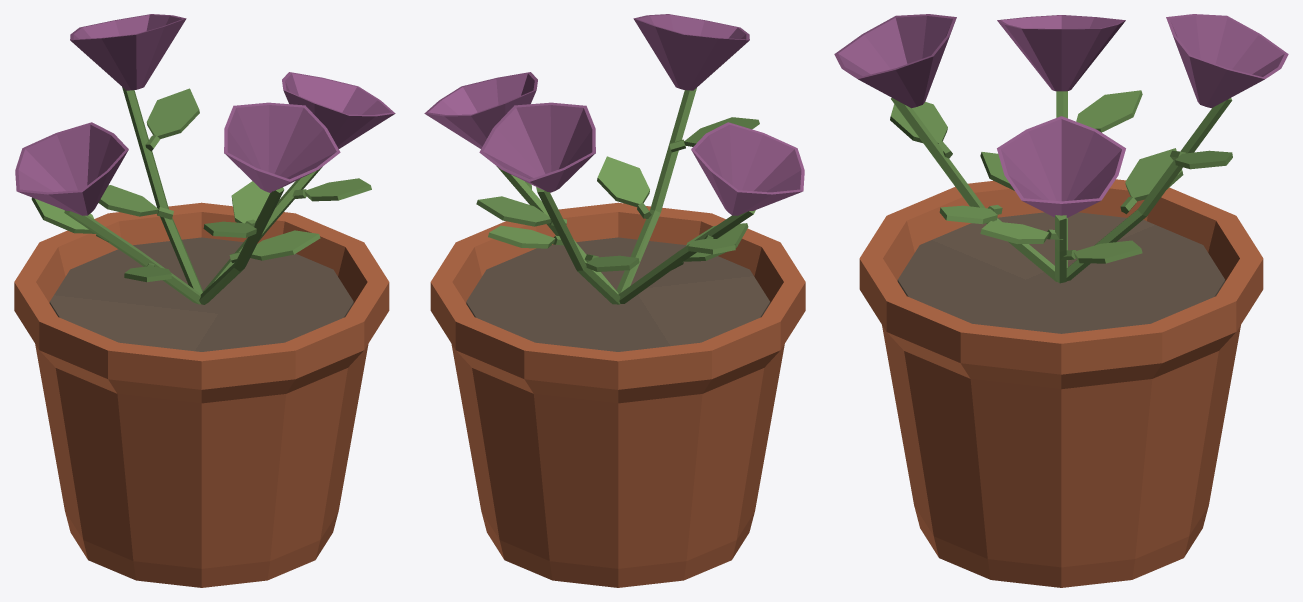
Rendered from flower.glb.
3 renders of one model, left to right at view 1: azimuth 30°, elevation 25°; view 2: azimuth 150°, elevation 25°; view 3: azimuth 270°, elevation 25°, orthographic. The views are drawn at different scales.
Visible parts, largest first — view 1: flower/review-terra-vessel, flower/review-rooted-soil, flower/hollow-corolla-027, flower/hollow-corolla-020, flower/hollow-corolla-013, flower/hollow-corolla-006, flower/stem-008, flower/leaf-012, flower/stem-015, flower/stem-022, flower/leaf-024, flower/leaf-010 (+6 smaller); view 2: flower/review-terra-vessel, flower/review-rooted-soil, flower/hollow-corolla-013, flower/hollow-corolla-020, flower/hollow-corolla-027, flower/hollow-corolla-006, flower/stem-022, flower/leaf-024, flower/stem-008, flower/stem-015, flower/leaf-012, flower/leaf-003 (+5 smaller); view 3: flower/review-terra-vessel, flower/review-rooted-soil, flower/hollow-corolla-006, flower/hollow-corolla-013, flower/hollow-corolla-027, flower/hollow-corolla-020, flower/stem-008, flower/stem-022, flower/leaf-019, flower/leaf-010, flower/leaf-026, flower/leaf-003 (+5 smaller).
Part boxes in pixels (left/top/right/bottom): flower/review-terra-vessel: left=14, top=202, right=389, bottom=587; flower/review-rooted-soil: left=49, top=237, right=353, bottom=351; flower/hollow-corolla-027: left=224, top=102, right=340, bottom=192; flower/hollow-corolla-020: left=15, top=122, right=128, bottom=215; flower/hollow-corolla-013: left=70, top=14, right=186, bottom=90; flower/hollow-corolla-006: left=282, top=72, right=395, bottom=148; flower/stem-008: left=122, top=87, right=202, bottom=293; flower/leaf-012: left=146, top=88, right=199, bottom=139; flower/stem-015: left=64, top=210, right=200, bottom=304; flower/stem-022: left=199, top=187, right=284, bottom=304; flower/leaf-024: left=250, top=230, right=320, bottom=260; flower/leaf-010: left=98, top=185, right=158, bottom=216; flower/review-terra-vessel: left=430, top=202, right=805, bottom=587; flower/review-rooted-soil: left=466, top=237, right=770, bottom=351; flower/hollow-corolla-013: left=479, top=102, right=595, bottom=192; flower/hollow-corolla-020: left=691, top=122, right=804, bottom=215; flower/hollow-corolla-027: left=633, top=14, right=749, bottom=90; flower/hollow-corolla-006: left=424, top=72, right=537, bottom=148; flower/stem-022: left=616, top=88, right=696, bottom=294; flower/leaf-024: left=597, top=156, right=649, bottom=206; flower/stem-008: left=536, top=187, right=620, bottom=304; flower/stem-015: left=618, top=210, right=755, bottom=303; flower/leaf-012: left=476, top=196, right=551, bottom=226; flower/leaf-003: left=488, top=225, right=555, bottom=248; flower/review-terra-vessel: left=859, top=179, right=1263, bottom=587; flower/review-rooted-soil: left=897, top=212, right=1225, bottom=333; flower/hollow-corolla-006: left=997, top=116, right=1125, bottom=217; flower/hollow-corolla-013: left=1166, top=14, right=1288, bottom=108; flower/hollow-corolla-027: left=834, top=14, right=956, bottom=108; flower/hollow-corolla-020: left=997, top=15, right=1125, bottom=91; flower/stem-008: left=1066, top=98, right=1232, bottom=280; flower/stem-022: left=891, top=98, right=1057, bottom=281; flower/leaf-019: left=1076, top=90, right=1142, bottom=132; flower/leaf-010: left=1125, top=148, right=1183, bottom=201; flower/leaf-026: left=890, top=102, right=947, bottom=143; flower/leaf-003: left=1074, top=240, right=1142, bottom=263.
Size of the model in its own units: 0.2131 by 0.2606 by 0.2137.
Materials: 5 (5 with a texture image).
